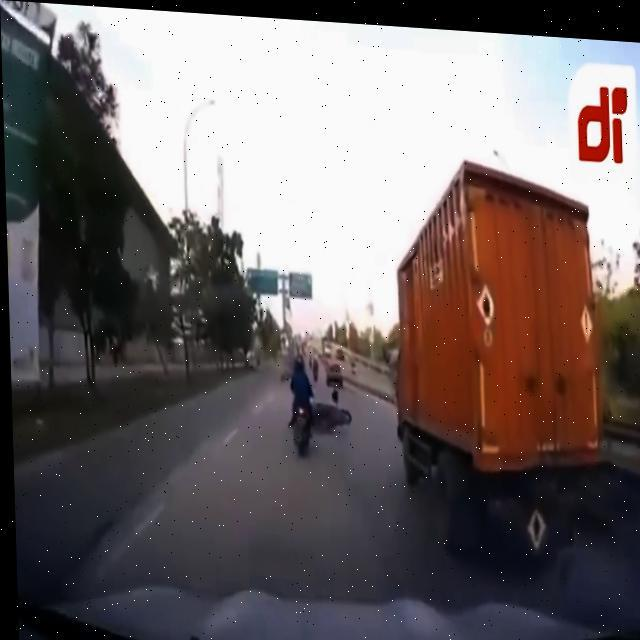multiple_accident: (275, 287, 362, 490)
normal: (353, 130, 623, 590)
